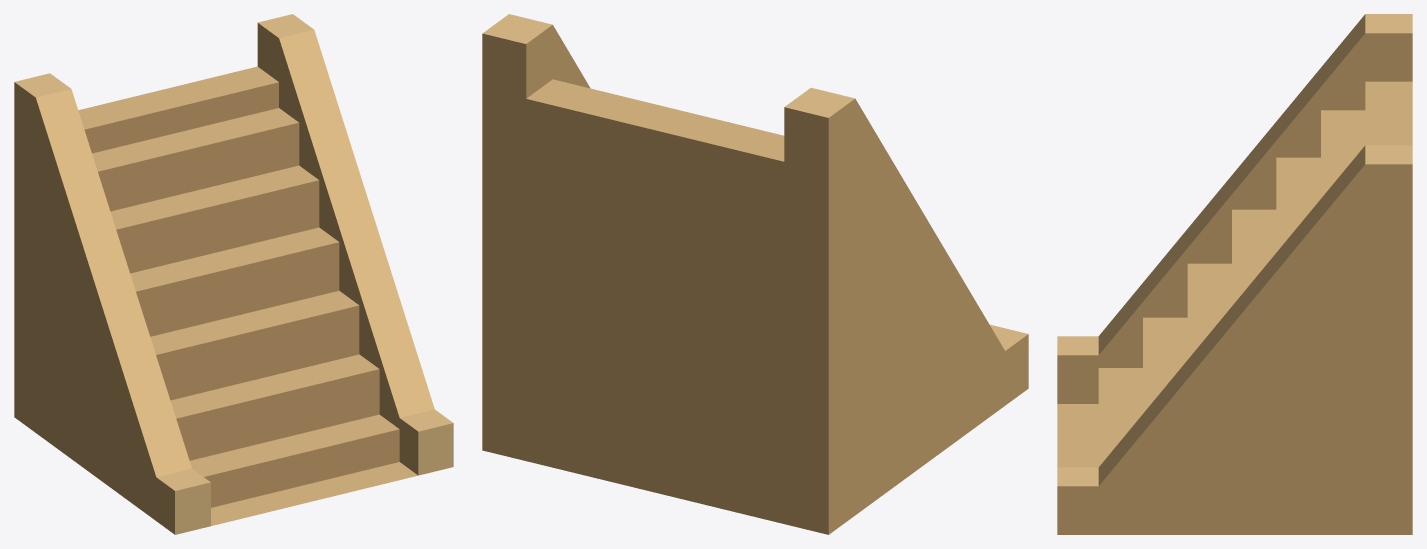
Rendered from ST_Env_Stairs_01.fbx.
The picture shows the model from 3 angles, left to right: view 1: azimuth 30°, elevation 25°; view 2: azimuth 150°, elevation 25°; view 3: azimuth 270°, elevation 25°; orthographic projection. The views are drawn at different scales.
Visible parts, largest first — view 1: ST_Env_Stairs_01; view 2: ST_Env_Stairs_01; view 3: ST_Env_Stairs_01.
Part boxes in pixels (x1,y1,x2,y2): ST_Env_Stairs_01: (14, 14, 453, 534); ST_Env_Stairs_01: (482, 14, 1028, 534); ST_Env_Stairs_01: (1057, 14, 1412, 534).
Size of the model in its own units: 5 by 5.75 by 5.
